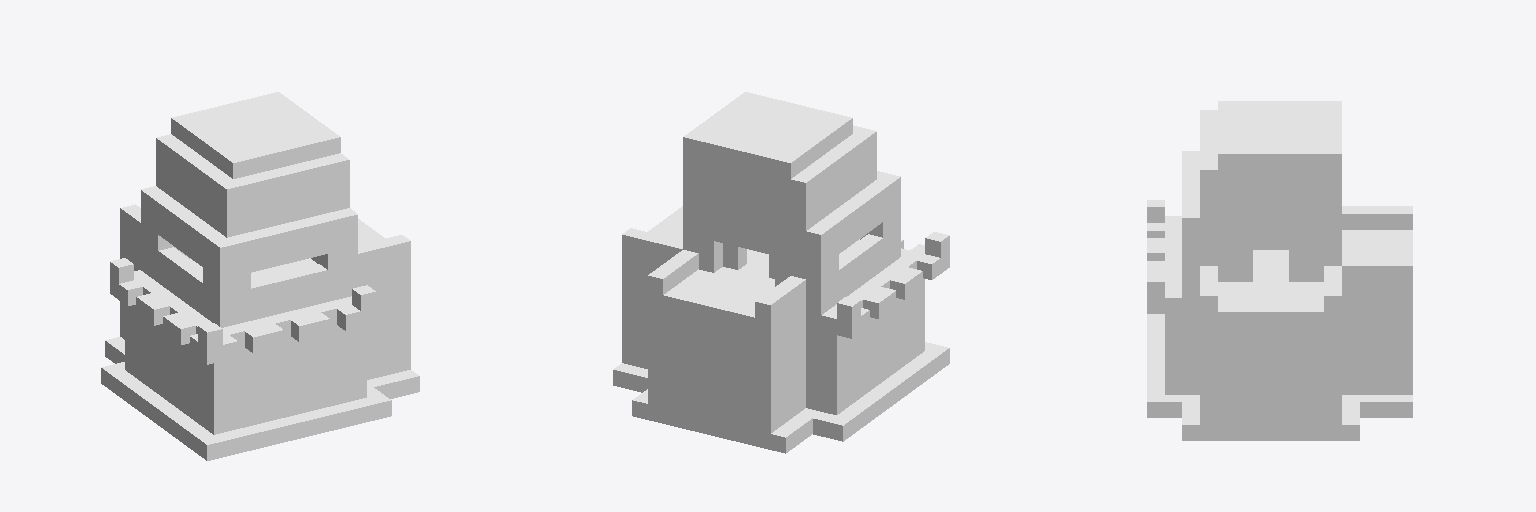
The model's file is WallCurved_Tall.obj.
The picture shows the model from 3 angles: view 1: azimuth 30°, elevation 25°; view 2: azimuth 150°, elevation 25°; view 3: azimuth 270°, elevation 25°; orthographic projection.
Visible parts, largest first — view 1: WallCurved_Tall; view 2: WallCurved_Tall; view 3: WallCurved_Tall.
Boxes of the visible parts, <box> form: WallCurved_Tall: <box>101,92,419,460</box>; WallCurved_Tall: <box>613,92,949,453</box>; WallCurved_Tall: <box>1147,101,1412,440</box>.
Bounding box in the file's own units: 15 × 16 × 15.